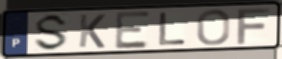E: (114, 10, 152, 50)
F: (236, 7, 272, 46)
K: (77, 13, 107, 49)
L: (158, 11, 188, 47)
O: (195, 8, 232, 47)
S: (32, 13, 71, 53)
